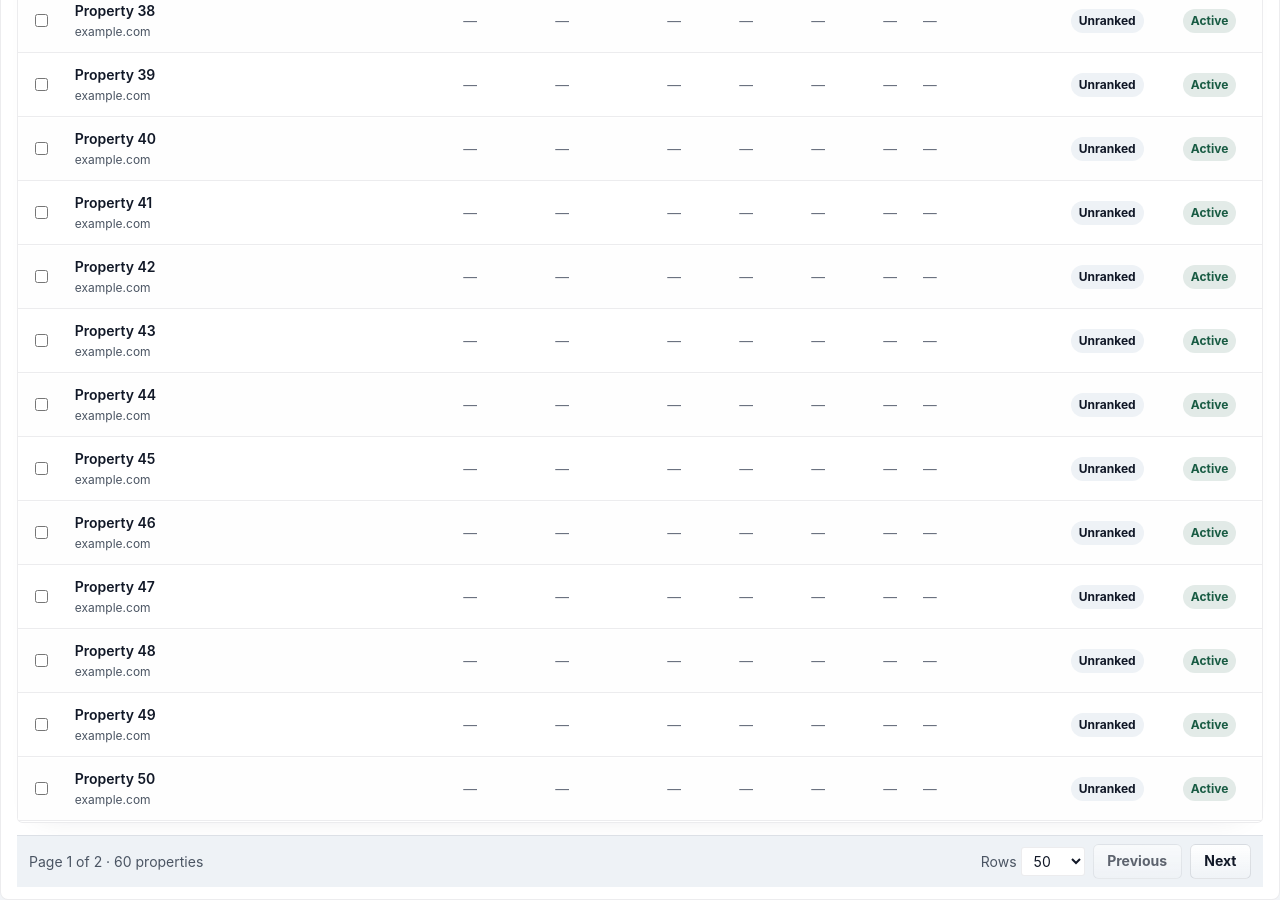
PropertiesPage › keeps the custom properties table paginated for large portfolios
(page scrolled)
Expected: the text "Page 1 of 2 · 60 properties" is shown, x1=29 y1=851 x2=203 y2=873
Click the button "Next" at (1220, 862), box x1=1190 y1=844 x2=1251 y2=879
(page scrolled)
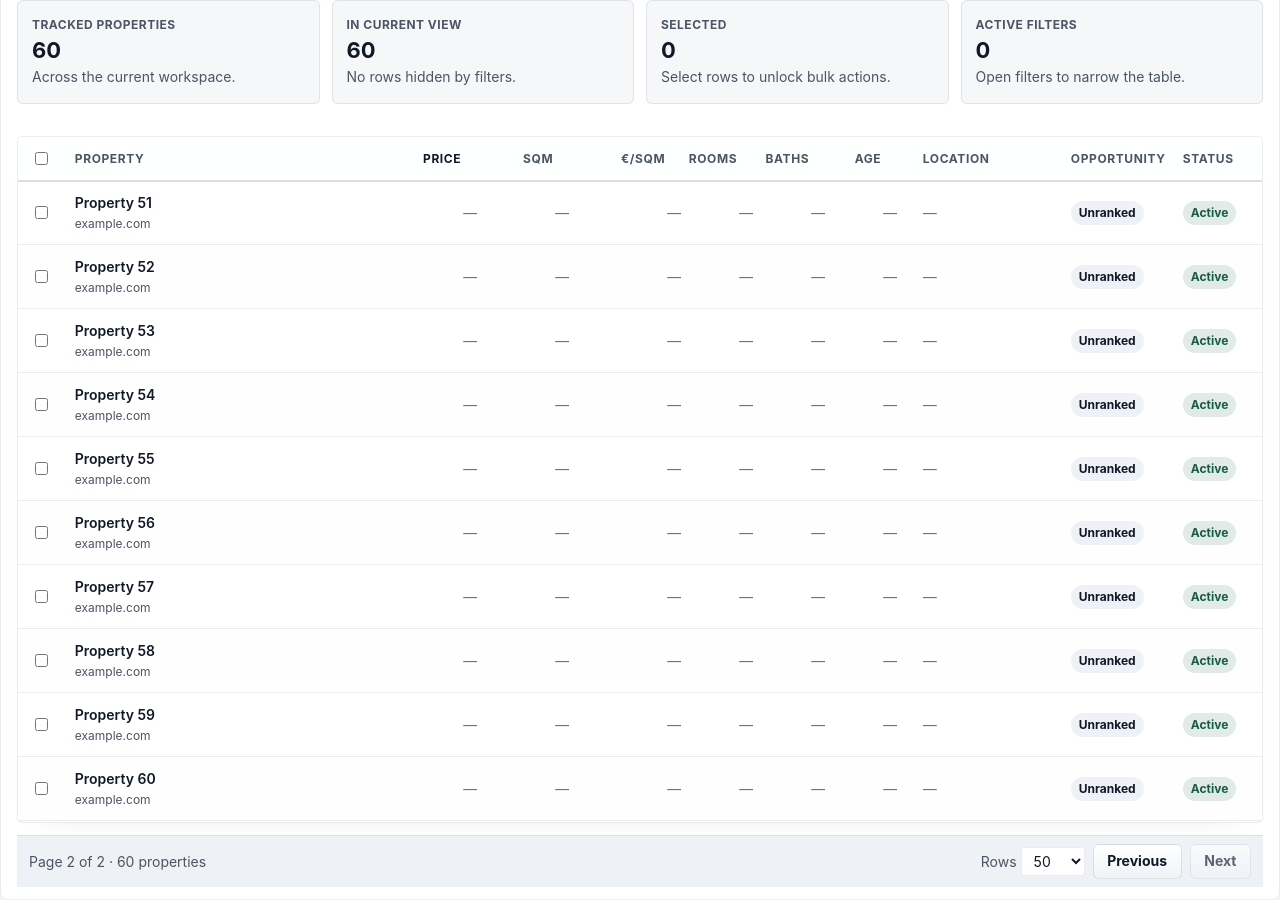
Expected: the text "Page 2 of 2 · 60 properties" is shown, x1=29 y1=851 x2=206 y2=873
Expected: the button with aria-label "Open property Property 60" is shown, x1=18 y1=758 x2=1263 y2=821
